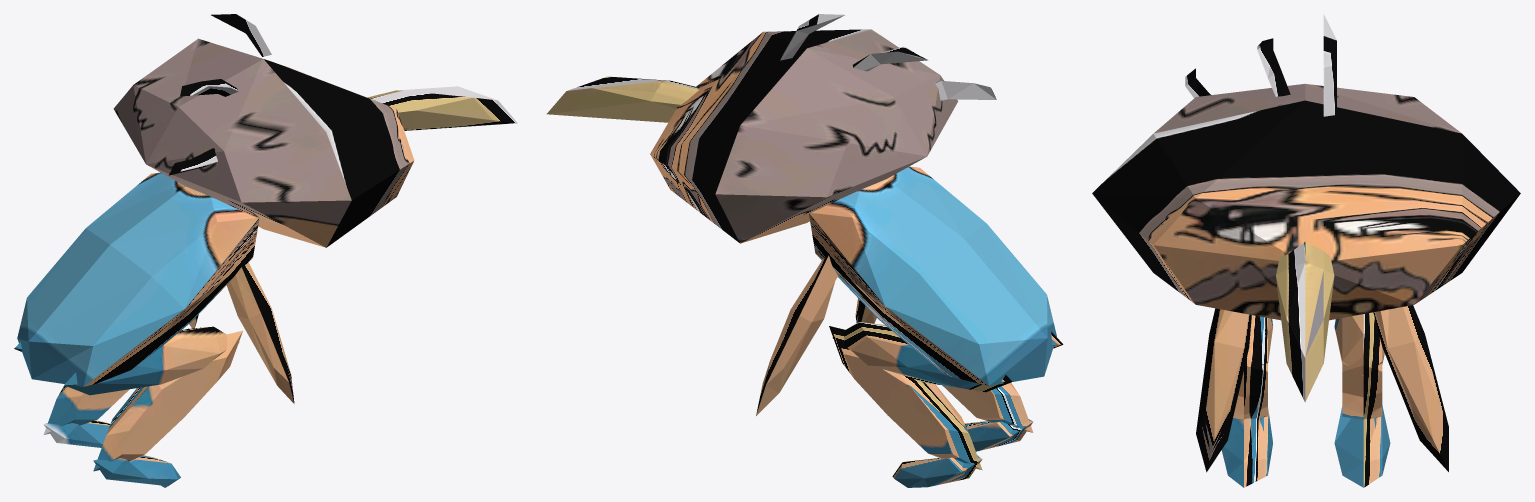
The model's file is Oldguy4.glb.
3 renders of one model, left to right at view 1: azimuth 30°, elevation 25°; view 2: azimuth 150°, elevation 25°; view 3: azimuth 270°, elevation 25°, orthographic. The views are drawn at different scales.
Visible parts, largest first — view 1: Oldguy4; view 2: Oldguy4; view 3: Oldguy4.
Part boxes in pixels (left/top/right/bottom): Oldguy4: left=14, top=14, right=517, bottom=487; Oldguy4: left=547, top=14, right=1063, bottom=487; Oldguy4: left=1092, top=14, right=1520, bottom=487.
Size of the model in its own units: 162 by 136 by 102.
1 material, 1 textured.
